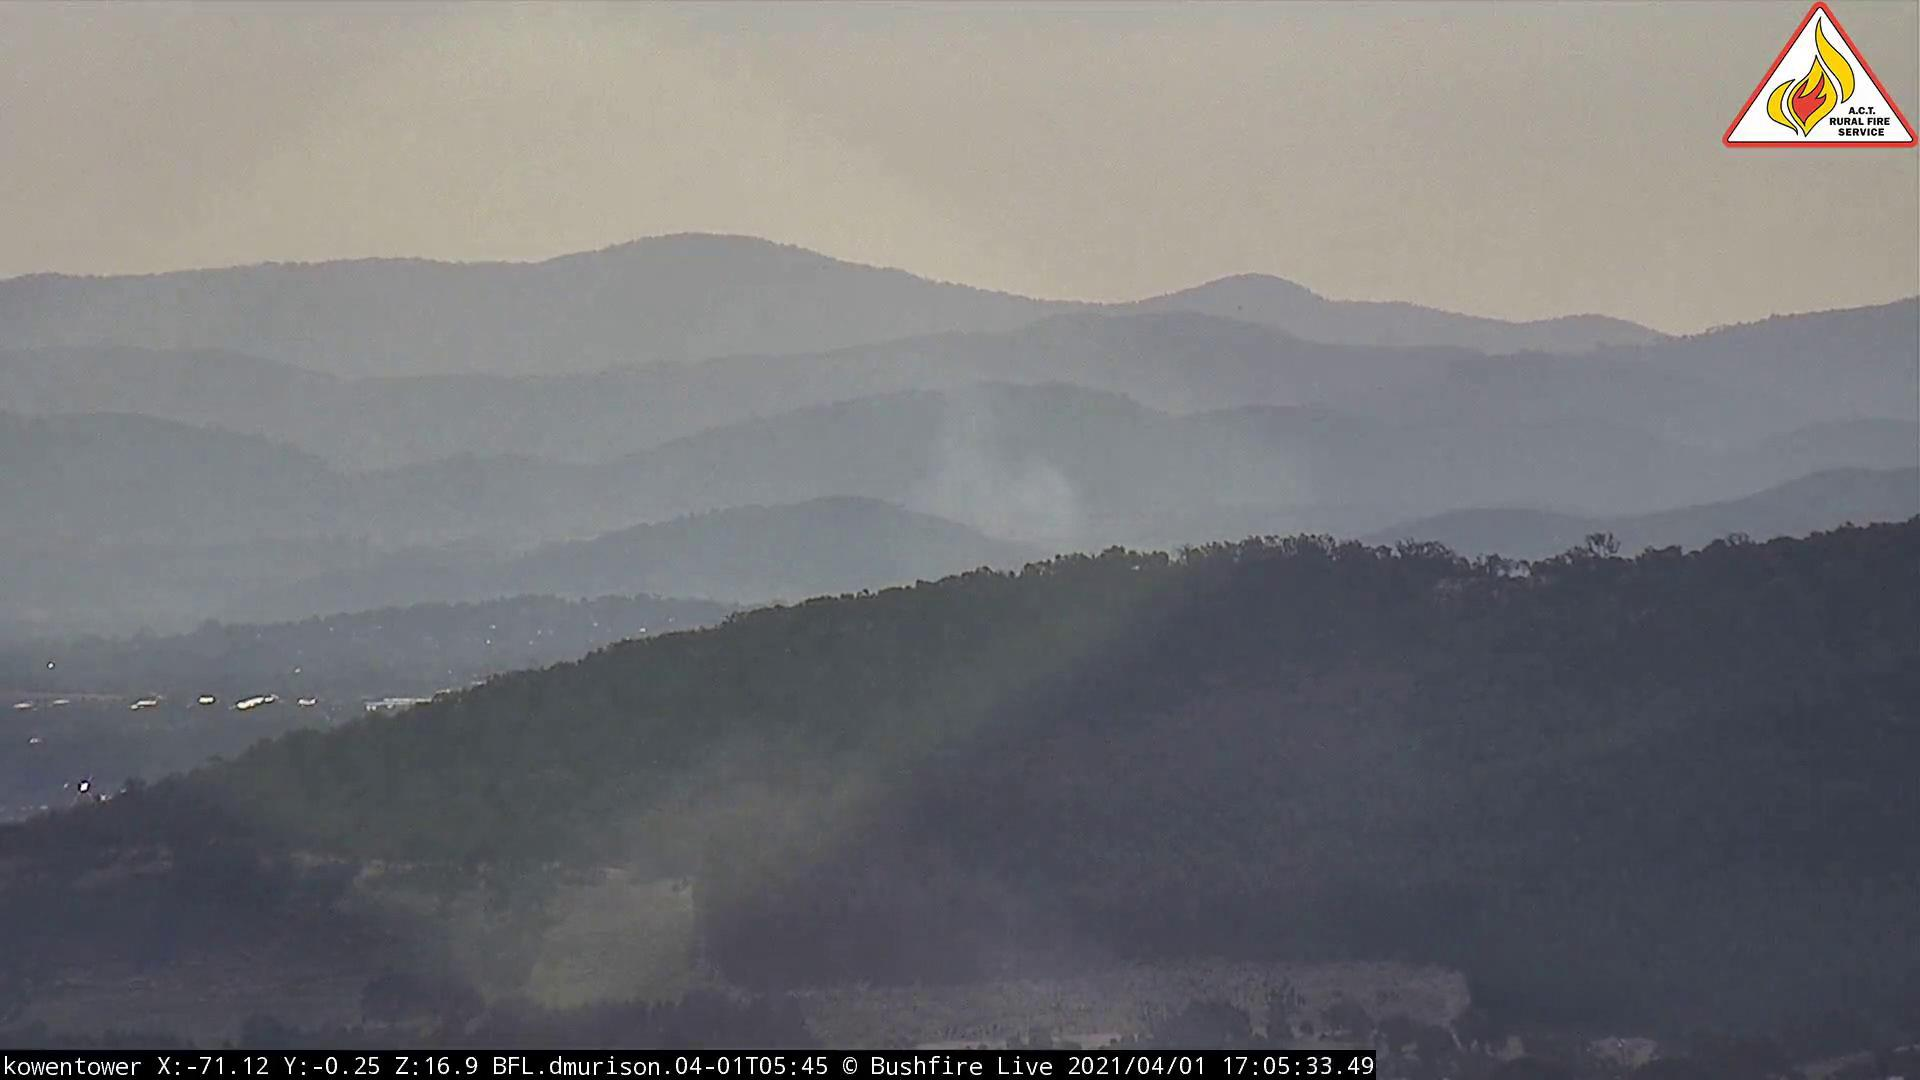Smoke: (914, 411, 1114, 574)
